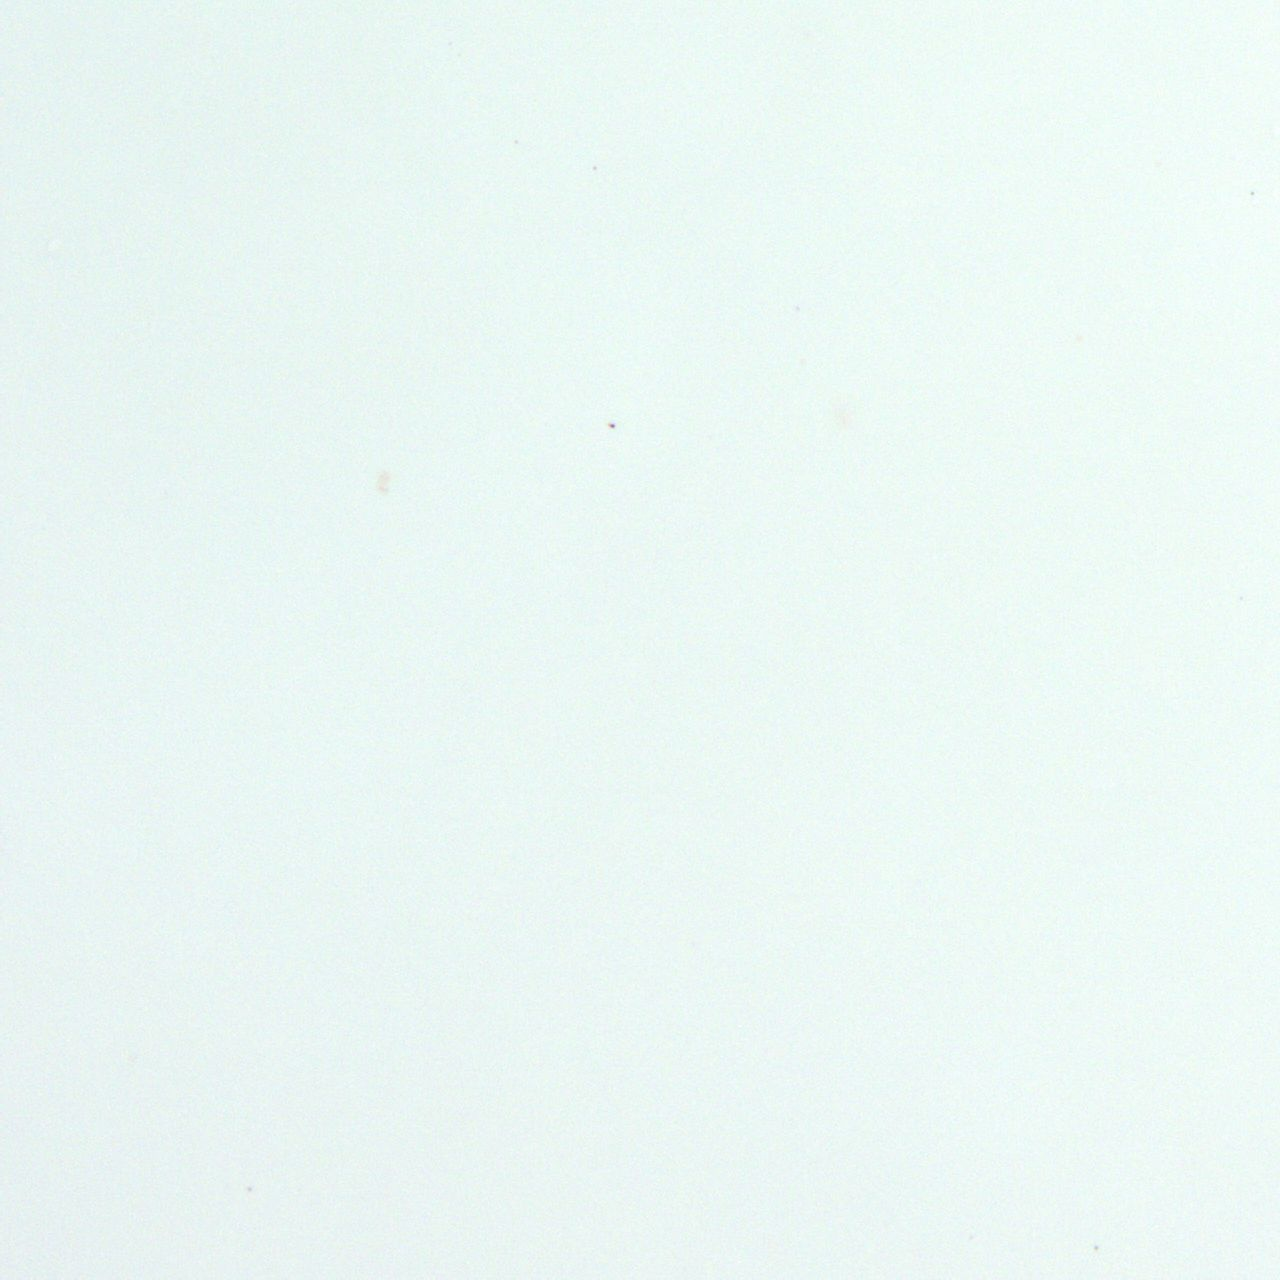dust: (608, 422, 615, 429)
